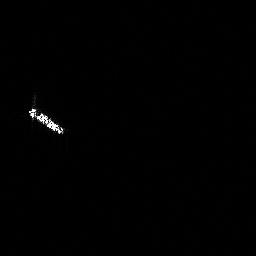ship: (28, 108, 63, 133)
